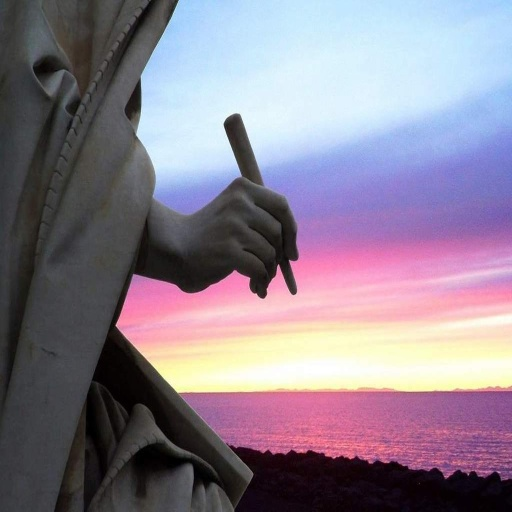hand: (160, 144, 296, 304)
